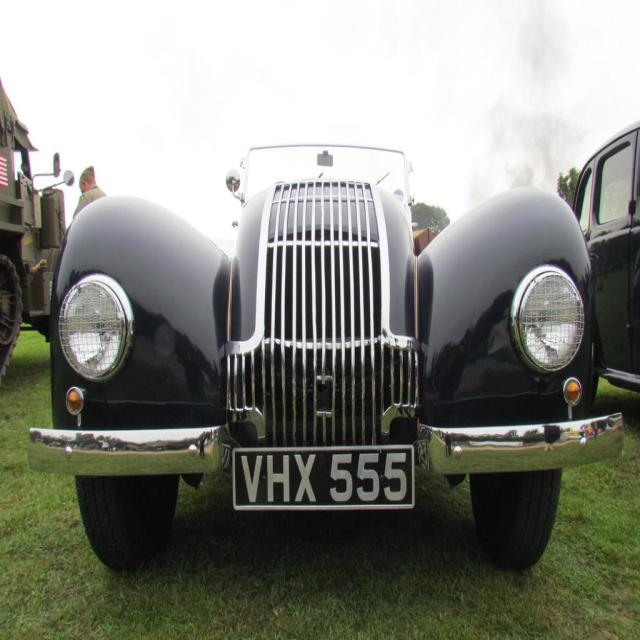car: (25, 140, 624, 575)
